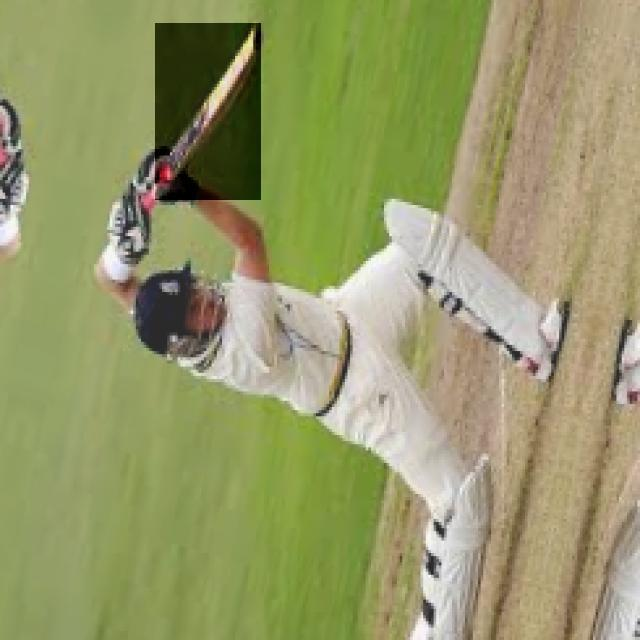bat: (155, 21, 262, 203)
toe: (250, 23, 263, 50)
